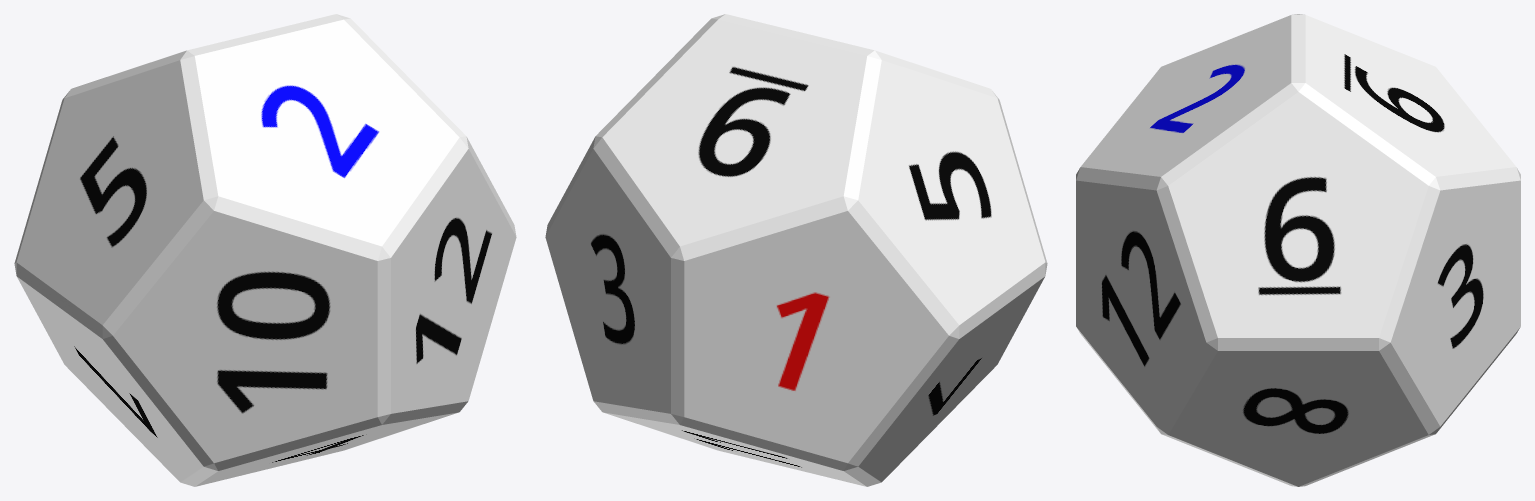
Rendered from Dice12.obj.
3 views of the same model, side by side, from view 1: azimuth 30°, elevation 25°; view 2: azimuth 150°, elevation 25°; view 3: azimuth 270°, elevation 25° (orthographic). The views are drawn at different scales.
Parts seen in each view (by area): view 1: Cube_Cube.001; view 2: Cube_Cube.001; view 3: Cube_Cube.001.
Boxes of the visible parts, <box> form: Cube_Cube.001: <box>14,14,516,486</box>; Cube_Cube.001: <box>545,14,1047,486</box>; Cube_Cube.001: <box>1076,14,1520,486</box>.
Bounding box in the file's own units: 0.3173 × 0.3173 × 0.3173.
1 material, 1 textured.
